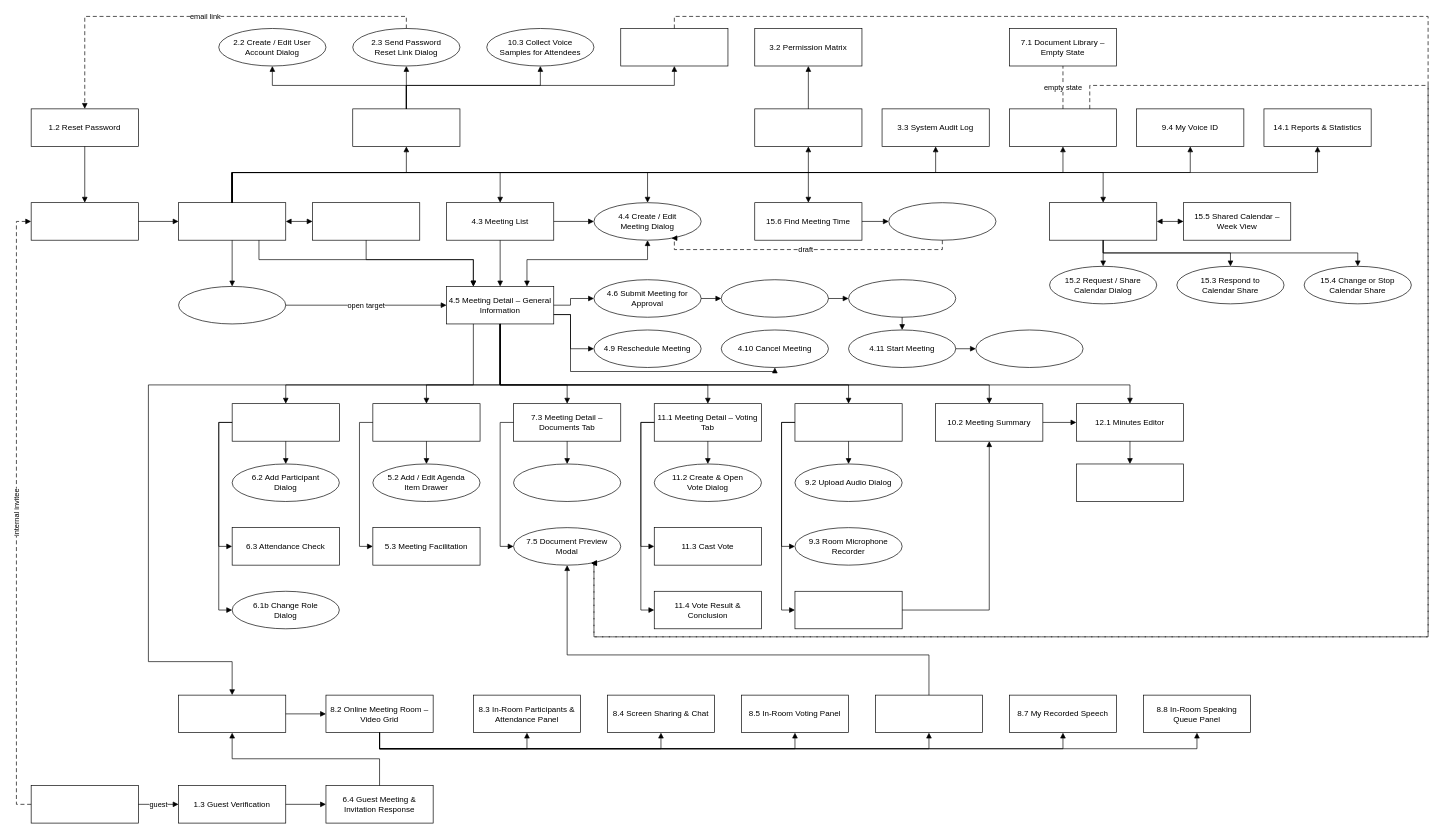
Some shapes in this 1445 by 835 pixel diagram are drawn without their labels. Here are the shapes that lost their labels. From the top down, the centre of each, then its label:
point (674, 47): 7.6 Deactivated User Library
point (406, 127): 2.1 User List
point (808, 127): 3.1 Role List
point (1063, 127): 7.2 Personal Document Library
point (84, 221): 1.1 Sign In
point (232, 221): 4.1 Meeting Calendar – Calendar View
point (366, 221): 4.2 Meeting Calendar – List View
point (942, 221): 15.7 Create Draft Meeting from Slot
point (1103, 221): 15.1 Calendar Sharing
point (232, 305): 13.1 Notification Panel
point (774, 298): 4.7 Approve / Reject Meeting
point (902, 298): 4.8 Publish Meeting
point (1029, 348): 4.12 End Meeting
point (285, 422): 6.1 Meeting Detail – Participants Tab
point (426, 422): 5.1 Meeting Detail – Meeting Content Tab
point (848, 422): 9.1 Meeting Detail – Recordings Tab
point (567, 482): 7.4 Add Document to Meeting Dialog
point (1130, 482): 12.2 Finalized Meeting Minutes
point (848, 610): 10.1 Speaker-Attributed Transcript
point (232, 713): 8.1 Meeting Lobby
point (929, 713): 8.6 In-Room Documents Panel
point (84, 804): 13.2 Meeting Invitation Email
